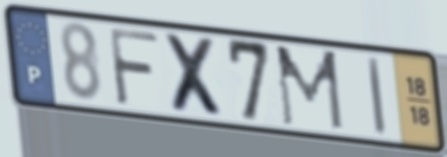7: (224, 34, 275, 127)
8: (56, 19, 104, 107)
F: (105, 24, 162, 110)
I: (365, 54, 389, 140)
M: (272, 43, 347, 134)
X: (160, 29, 231, 122)
